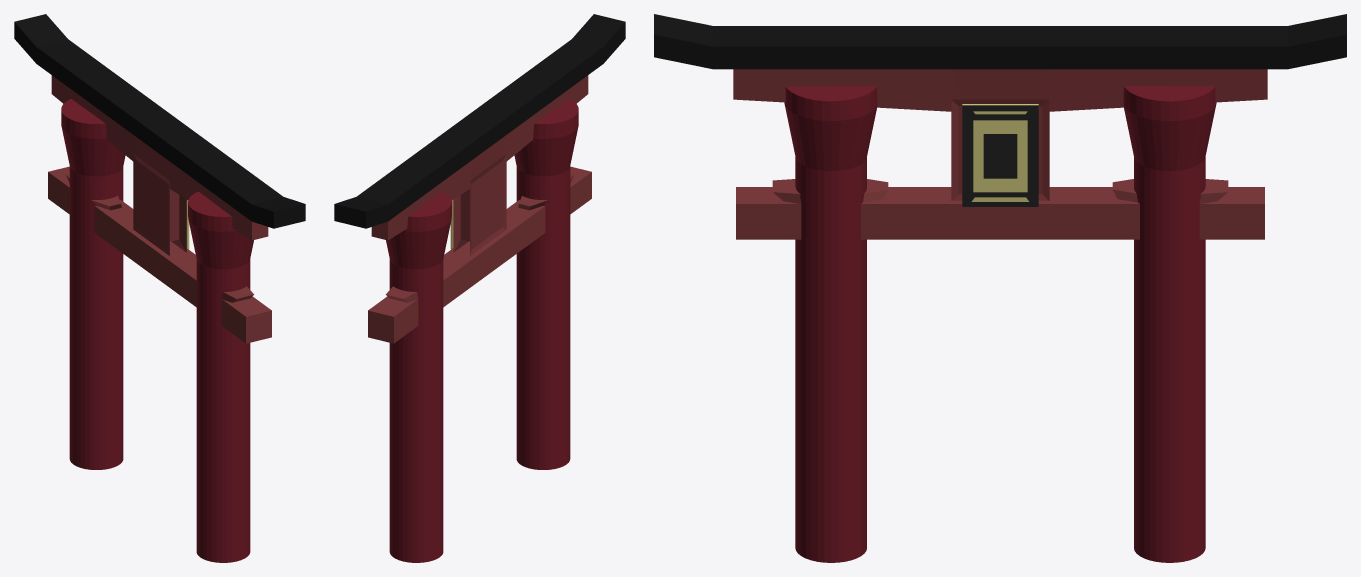
Rendered from torii.fbx.
The picture shows the model from 3 angles, left to right: view 1: azimuth 30°, elevation 25°; view 2: azimuth 150°, elevation 25°; view 3: azimuth 270°, elevation 25°; orthographic projection. The views are drawn at different scales.
Visible parts, largest first — view 1: 円柱, 立方体.002, 立方体.001, 立方体; view 2: 円柱, 立方体.002, 立方体.001, 立方体; view 3: 円柱, 立方体.002, 立方体, 立方体.001, 立方体.003.
Boxes of the visible parts, x1,y1,x2,y2 form: 円柱: [61, 99, 253, 562]; 立方体.002: [14, 14, 305, 228]; 立方体.001: [51, 75, 268, 255]; 立方体: [48, 166, 271, 343]; 円柱: [386, 99, 578, 562]; 立方体.002: [334, 14, 625, 228]; 立方体.001: [371, 75, 588, 255]; 立方体: [368, 166, 591, 343]; 円柱: [784, 86, 1216, 562]; 立方体.002: [654, 14, 1346, 69]; 立方体: [736, 179, 1264, 239]; 立方体.001: [733, 69, 1267, 200]; 立方体.003: [962, 104, 1038, 206].
Size of the model in its own units: 179 by 1091 by 1309.
